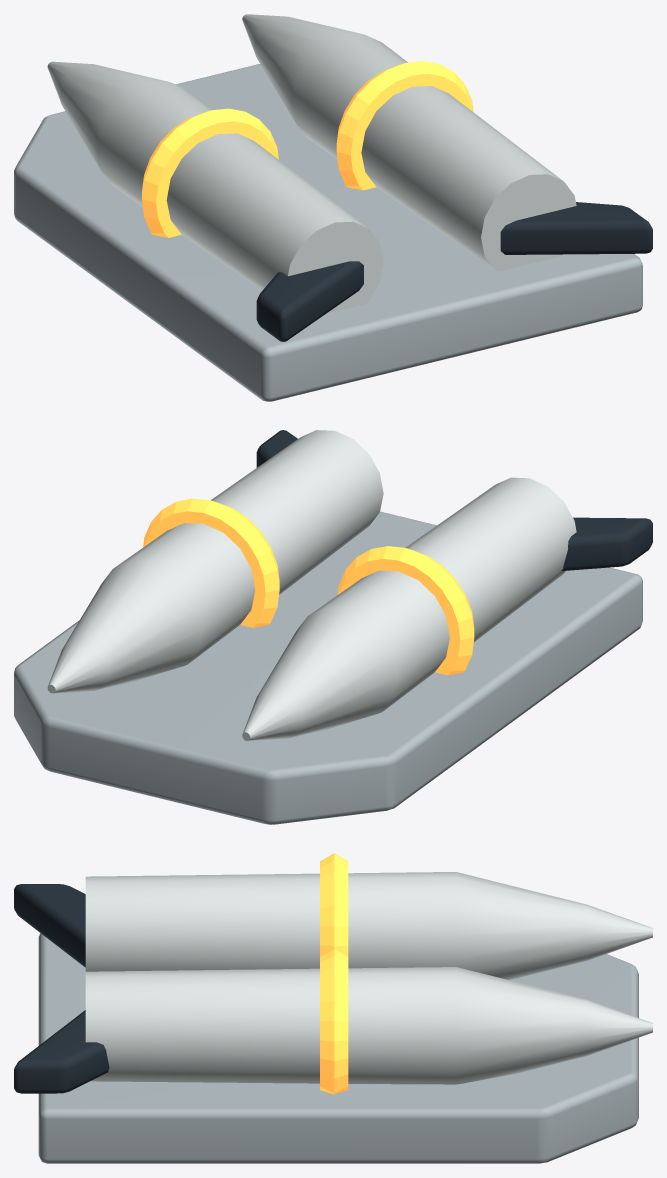
File: OrdnanceRack114.fbx
3 views of the same model, one above another, from view 1: azimuth 30°, elevation 25°; view 2: azimuth 150°, elevation 25°; view 3: azimuth 270°, elevation 25° (orthographic).
Visible parts, largest first — view 1: Twin ordnance sled, Recoverable missile.001, Recoverable missile, Swept wing.031, Safety band.001, Safety band, Swept wing.030; view 2: Twin ordnance sled, Recoverable missile.001, Recoverable missile, Safety band, Safety band.001, Swept wing.030, Swept wing.031; view 3: Twin ordnance sled, Recoverable missile.001, Recoverable missile, Swept wing.031, Safety band.001, Swept wing.030, Safety band.
Boxes of the visible parts, x1,y1,x2,y2 form: Twin ordnance sled: (14, 64, 642, 401); Recoverable missile.001: (242, 14, 576, 271); Recoverable missile: (47, 61, 383, 313); Swept wing.031: (500, 202, 652, 254); Safety band.001: (336, 61, 473, 190); Safety band: (142, 108, 278, 237); Swept wing.030: (256, 261, 363, 341); Twin ordnance sled: (14, 511, 642, 824); Recoverable missile.001: (47, 430, 383, 693); Recoverable missile: (242, 477, 576, 740); Safety band: (337, 546, 474, 675); Safety band.001: (143, 498, 279, 627); Swept wing.030: (561, 517, 652, 570); Swept wing.031: (256, 430, 297, 467); Twin ordnance sled: (38, 933, 638, 1163); Recoverable missile.001: (85, 967, 652, 1084); Recoverable missile: (85, 872, 652, 979); Swept wing.031: (14, 1010, 109, 1093); Safety band.001: (320, 948, 348, 1094); Swept wing.030: (14, 884, 85, 967); Safety band: (320, 853, 348, 956).
Bounding box in the file's own units: 94 × 39 × 136.
